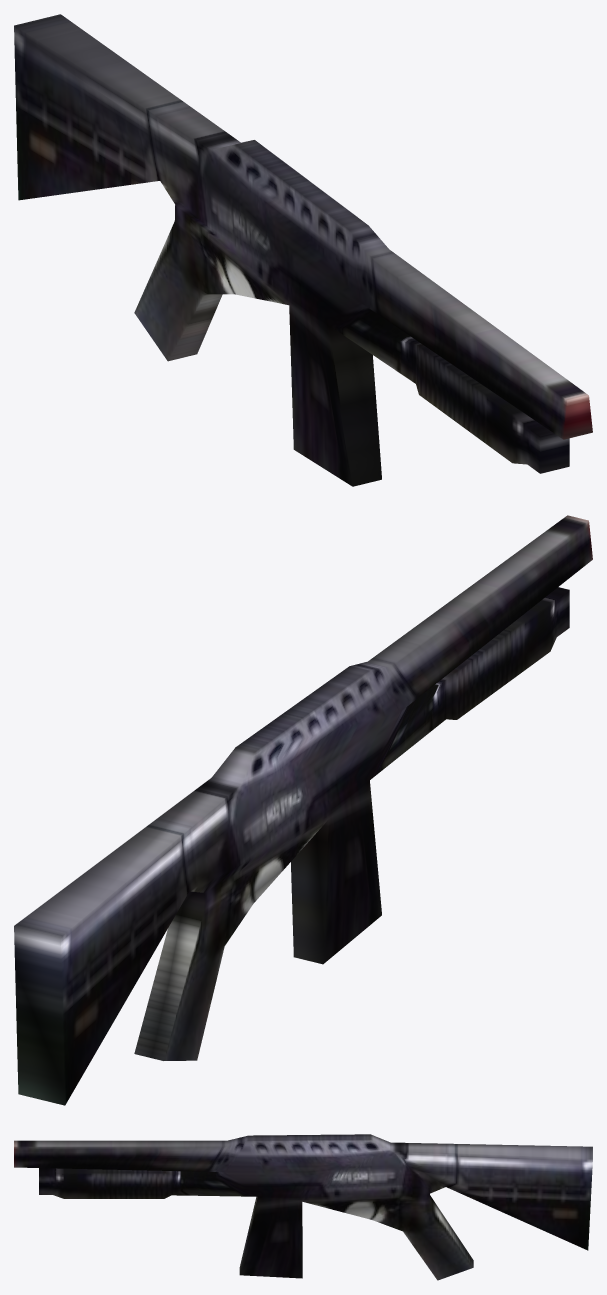
File: shotgun.obj
3 views of the same model, one above another, from view 1: azimuth 30°, elevation 25°; view 2: azimuth 150°, elevation 25°; view 3: azimuth 270°, elevation 25° (orthographic). The views are drawn at different scales.
Visible parts, largest first — view 1: test; view 2: test; view 3: test.
Part boxes in pixels (x1,y1,x2,y2): test: (14, 14, 592, 486); test: (14, 515, 592, 1105); test: (14, 1134, 592, 1280).
Bounding box in the file's own units: 0.3571 × 1.91 × 7.16.
Materials: 1 (1 with a texture image).
